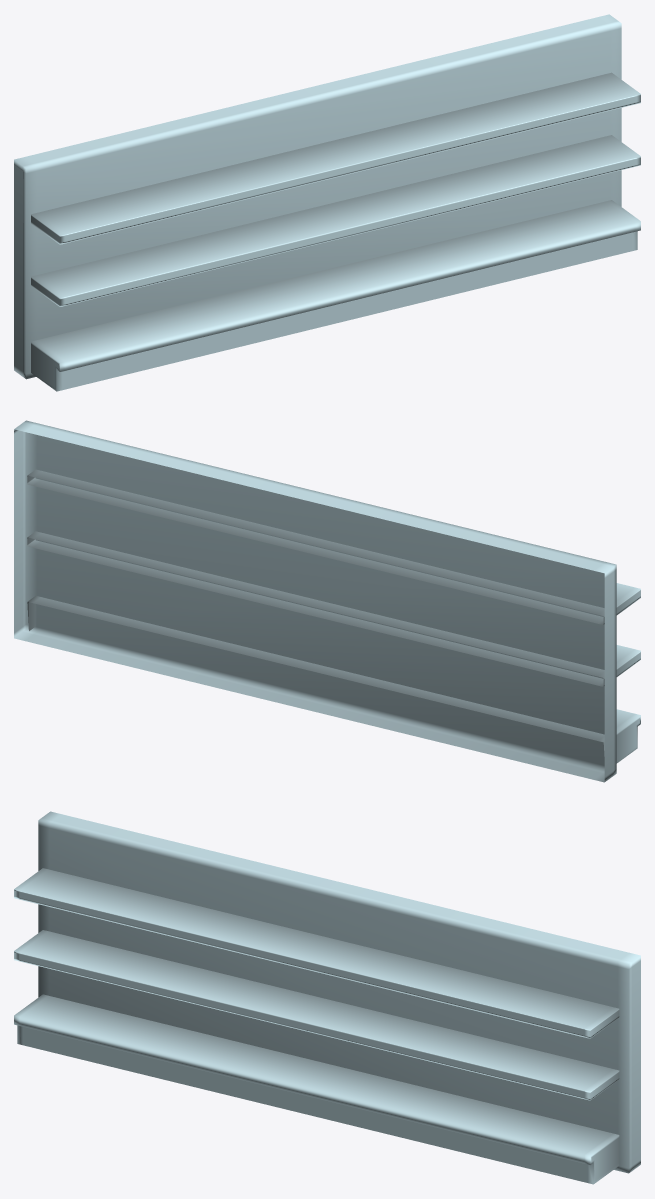
The model's file is Shelf_Single.fbx.
3 views of the same model, one above another, from view 1: azimuth 30°, elevation 25°; view 2: azimuth 150°, elevation 25°; view 3: azimuth 330°, elevation 25° (orthographic).
Visible parts, largest first — view 1: Shelf_single; view 2: Shelf_single; view 3: Shelf_single.
Part boxes in pixels (x1,y1,x2,y2): Shelf_single: (14, 14, 640, 391); Shelf_single: (14, 420, 640, 782); Shelf_single: (14, 811, 640, 1184).
Bounding box in the file's own units: 16.87 × 5.71 × 2.03.
